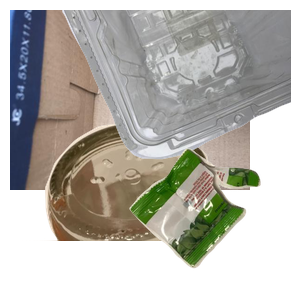cardboard: (10, 10, 250, 190)
glass: (22, 120, 233, 300)
plastic: (60, 10, 300, 162)
trash: (127, 146, 300, 300)
